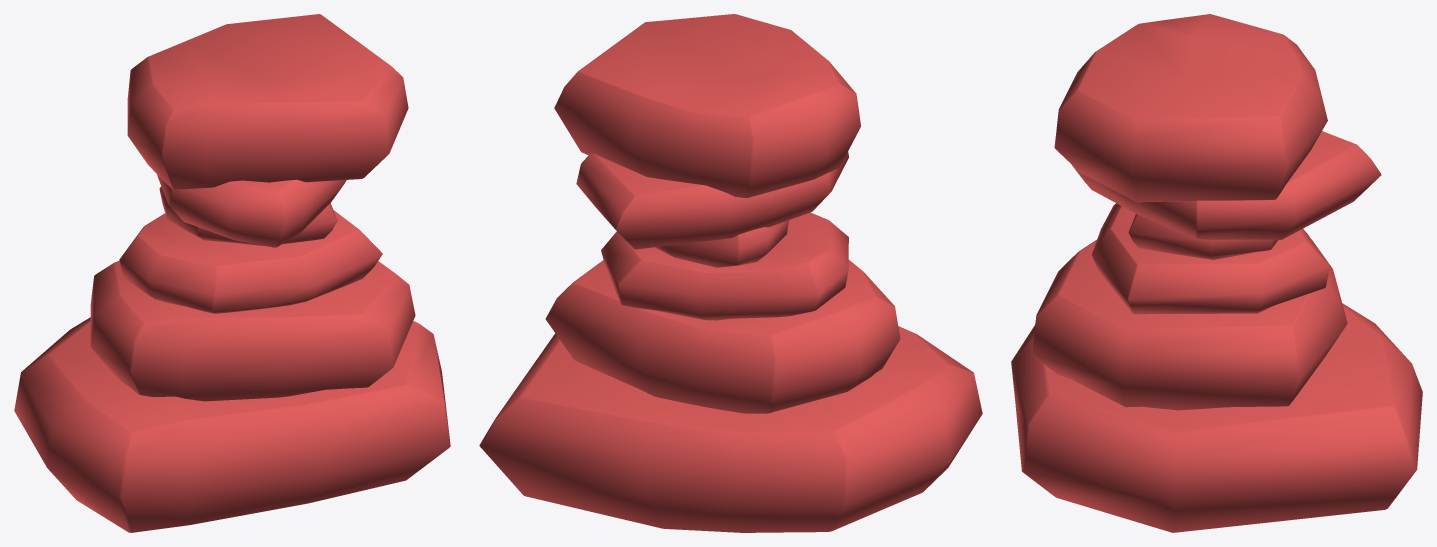
The model's file is SM_Rocks01.FBX.
3 views of the same model, side by side, from view 1: azimuth 30°, elevation 25°; view 2: azimuth 150°, elevation 25°; view 3: azimuth 270°, elevation 25° (orthographic). The views are drawn at different scales.
Visible parts, largest first — view 1: SM_Rocks01; view 2: SM_Rocks01; view 3: SM_Rocks01.
Part boxes in pixels (<box>): SM_Rocks01: <box>14,14,450,532</box>; SM_Rocks01: <box>479,14,982,532</box>; SM_Rocks01: <box>1011,14,1422,532</box>.
Size of the model in its own units: 1632 by 1448 by 1569.
